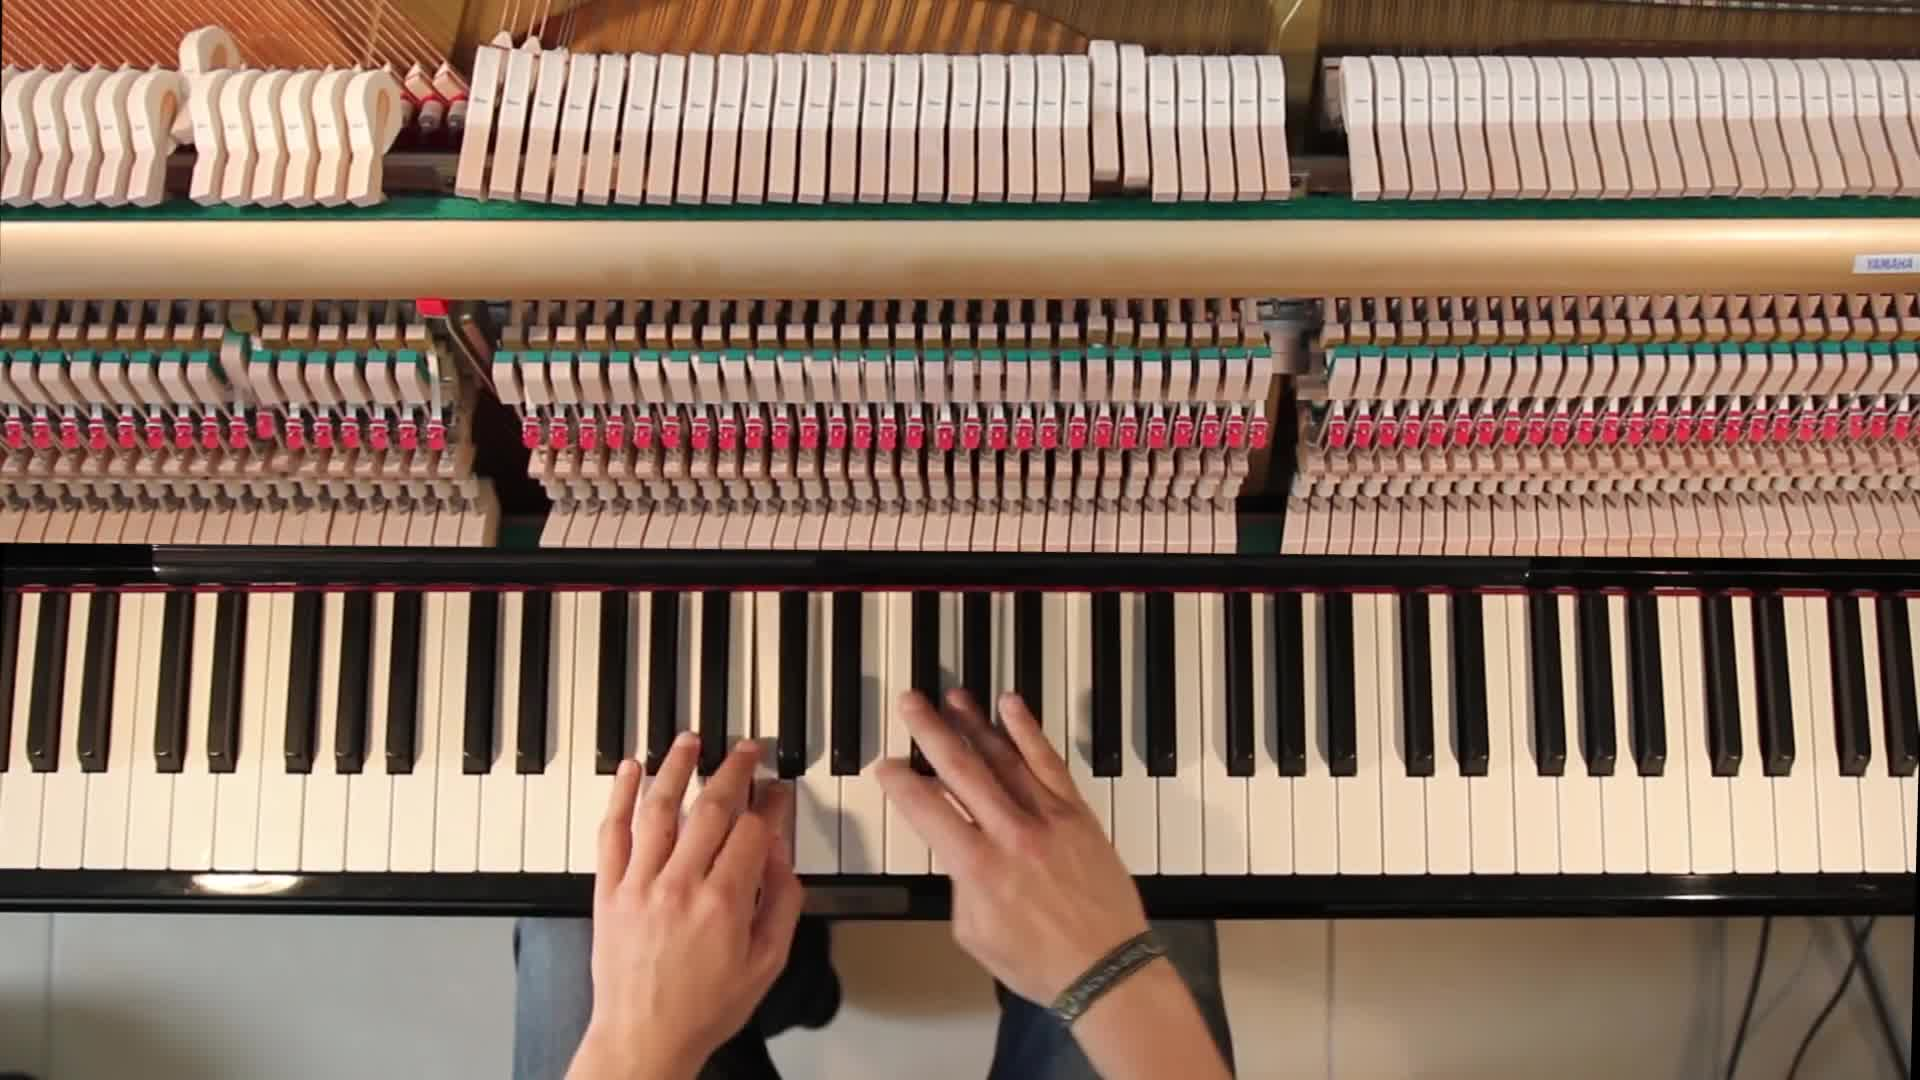left: (589, 724, 804, 1030)
right: (878, 687, 1135, 998)
